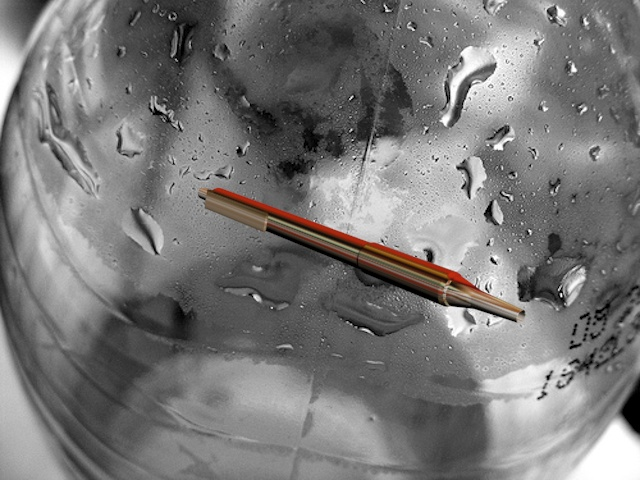pen: (192, 176, 529, 336)
